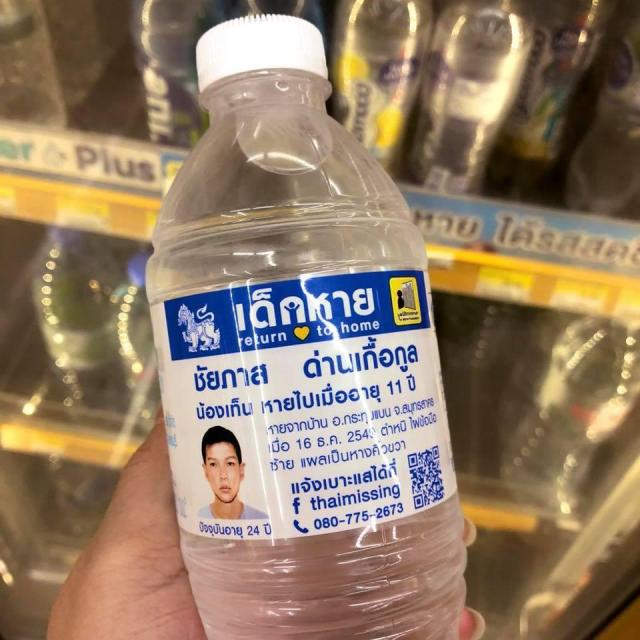bottle: (136, 4, 476, 640), (490, 291, 640, 526), (420, 2, 540, 230), (103, 244, 218, 472), (22, 224, 128, 441), (324, 0, 431, 213), (555, 0, 639, 241), (503, 0, 606, 179), (0, 0, 78, 159)
